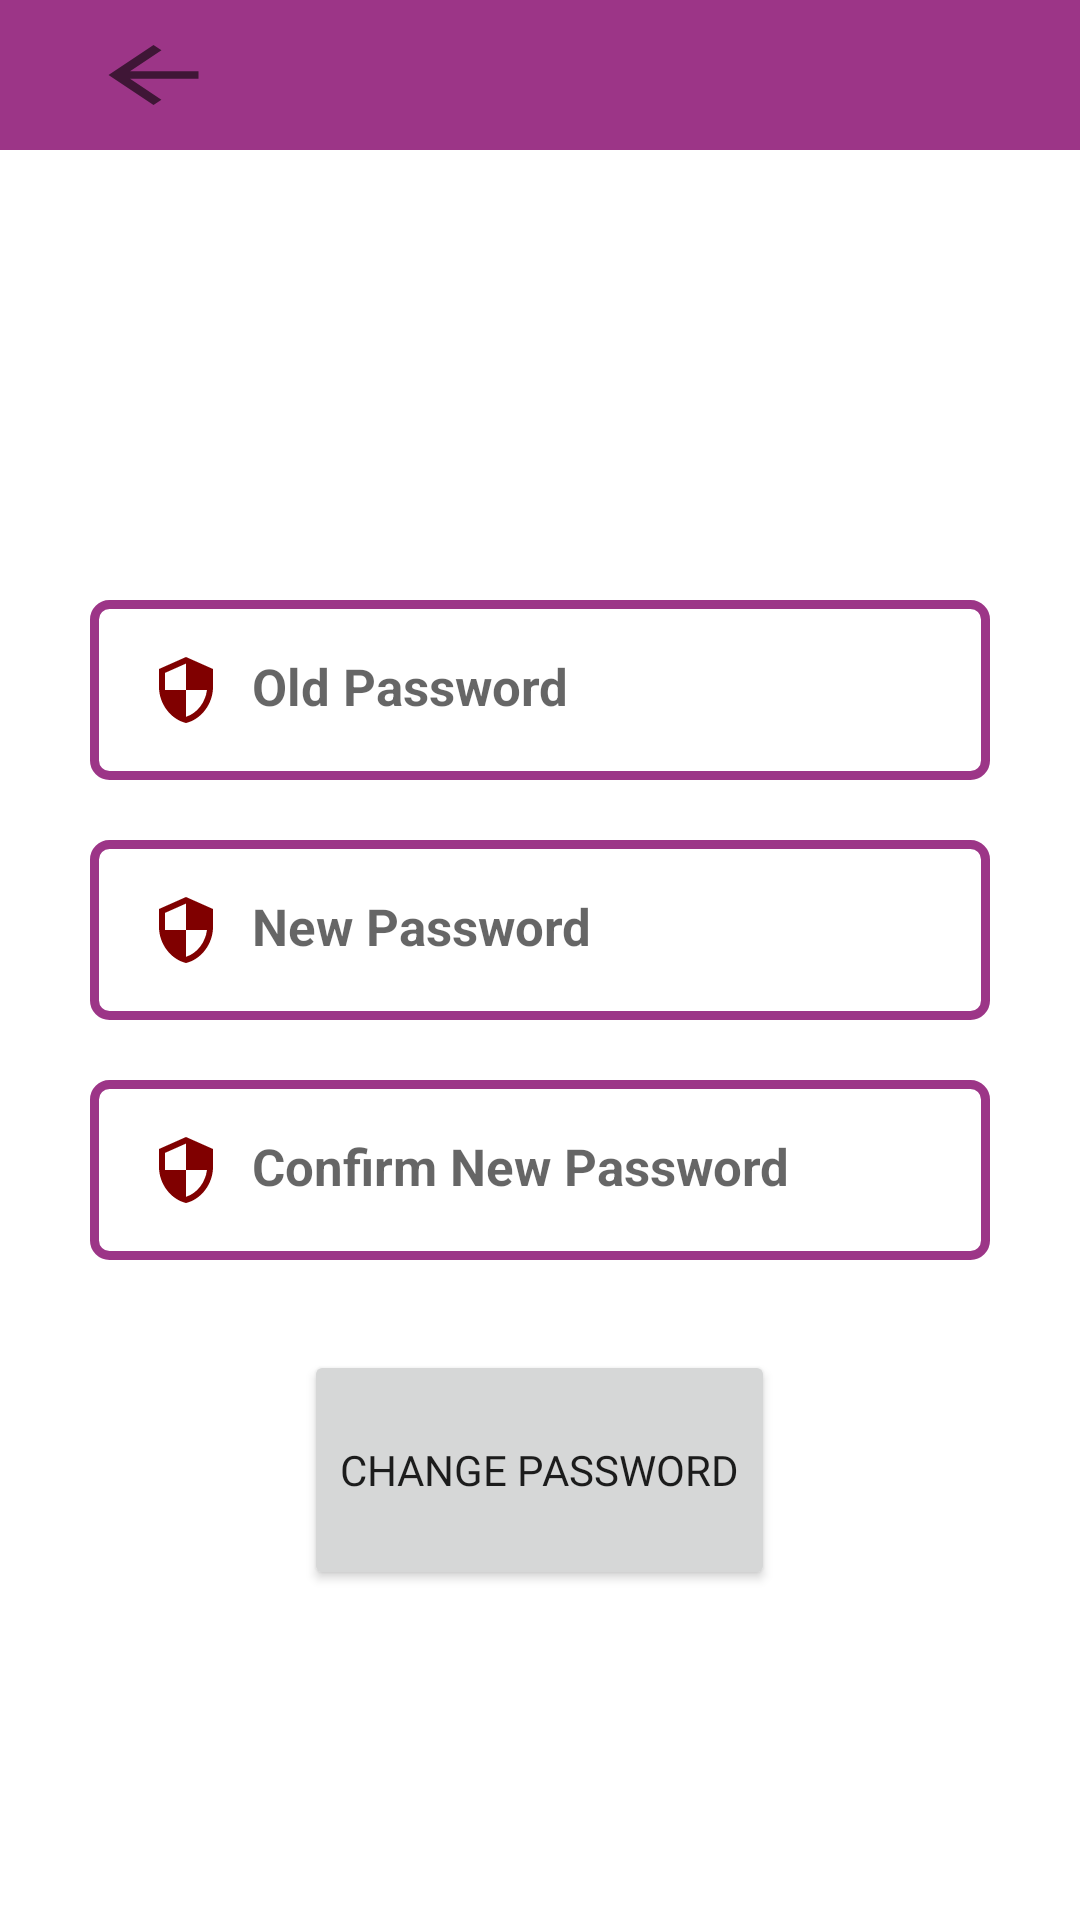

Screen size 1080×1920. Icon name, then its box in pixels as (x1, y1, x2, y2):
arrow back: (109, 45, 199, 105)
